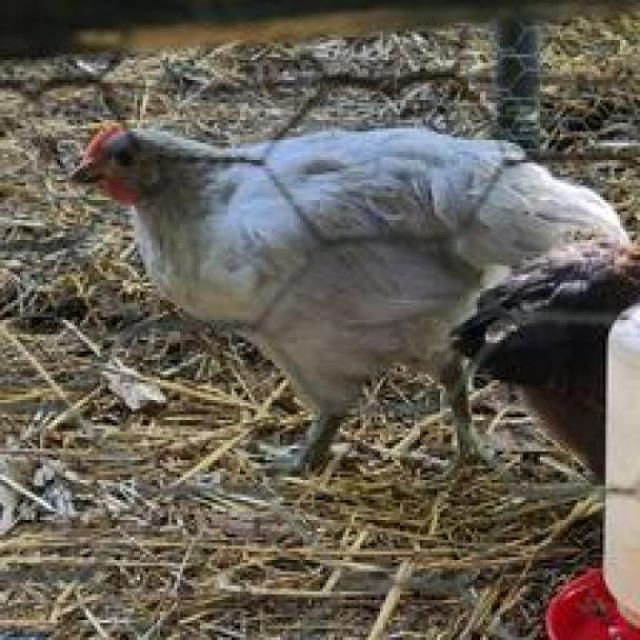Chicken: (66, 103, 632, 505)
